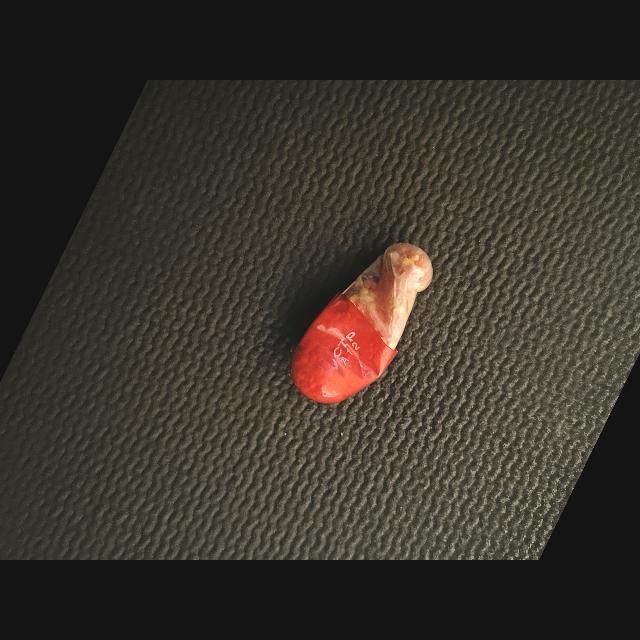Defective Capsule: (291, 243, 433, 403)
